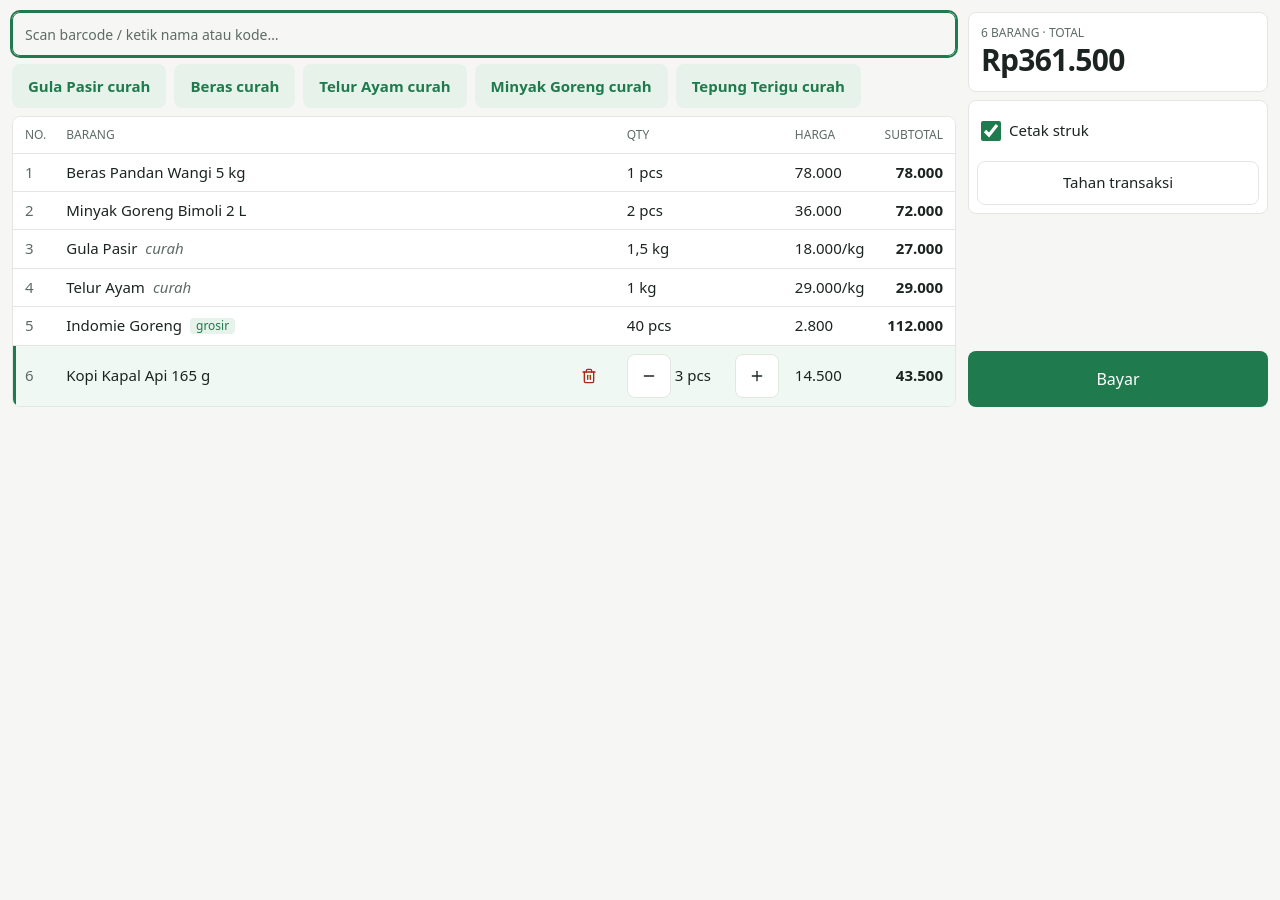
Test case: tunai: ketik 400.000 → KEMBALIAN Rp38.500; Selesai → keranjang kosong, kembalian di panel
Click the button "Bayar" at (1118, 379), box [968,351,1268,407]
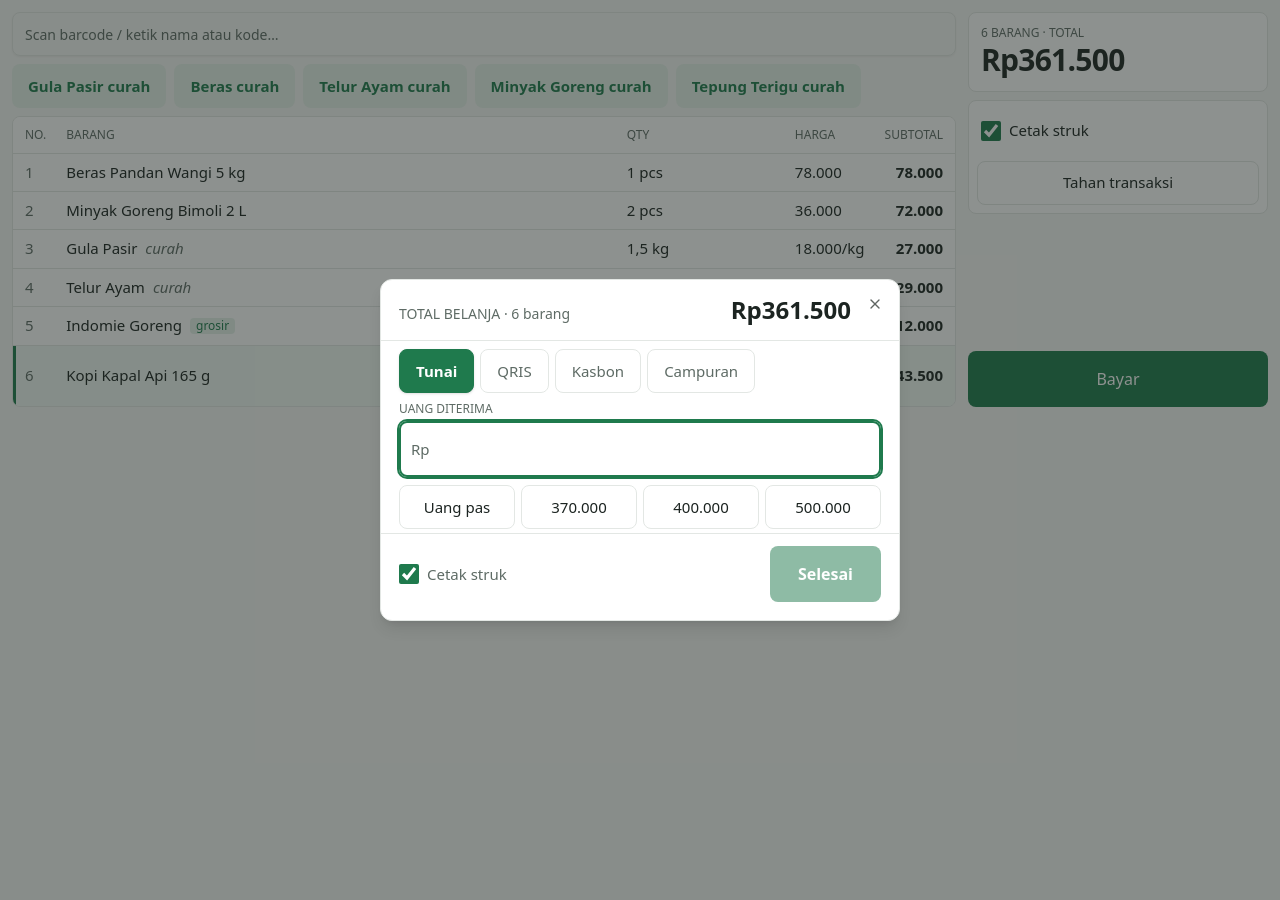
Expected: the text "TOTAL BELANJA · 6 barang" is shown, [399,304,570,324]
Expected: the text "Rp361.500" is shown, [731,294,851,326]
Expected: the button "Selesai" is disabled, [770,546,881,602]
Type "400.000" into the field labelled "UANG DITERIMA" at (640, 449), box [399,421,881,477]
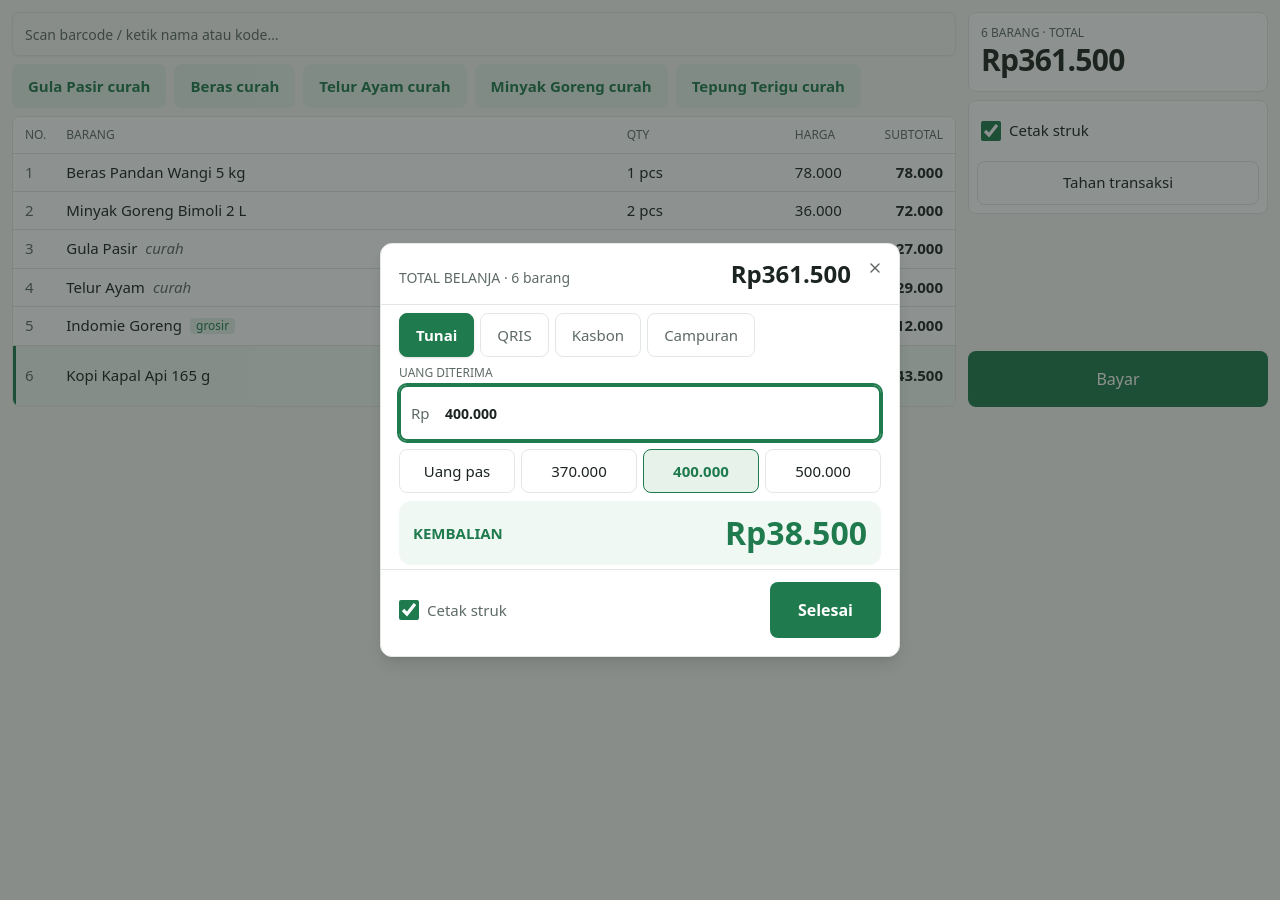
Expected: the text "KEMBALIAN" is shown, [413,522,503,544]
Expected: the text "Rp38.500" is shown, [725,513,867,553]
Click the button "Selesai" at (825, 610), box [770,582,881,638]
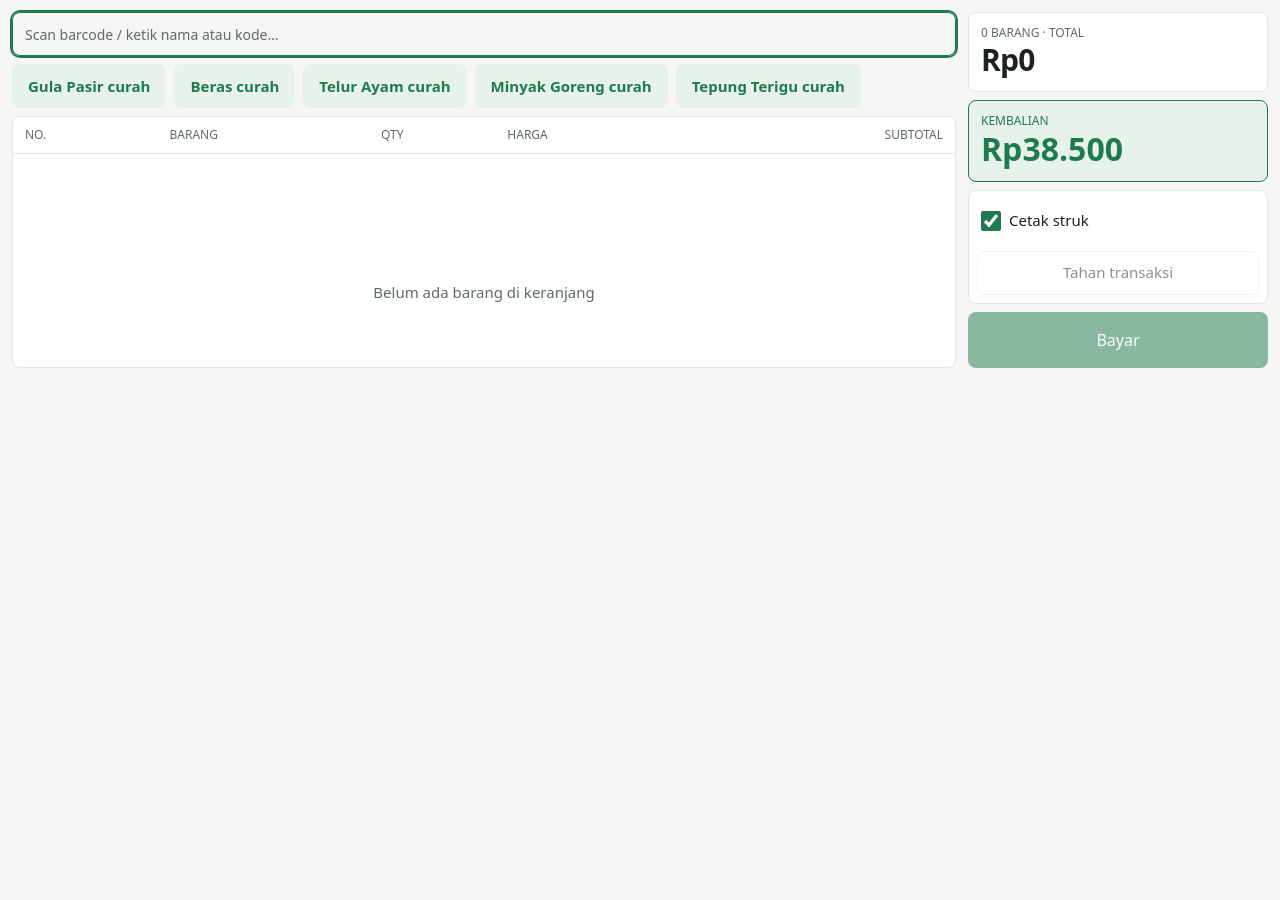
Expected: the dialog "Pembayaran" is not shown
Expected: the element showing "KEMBALIAN Rp38.500" is shown, [968,100,1268,182]
Expected: the text "0 BARANG · TOTAL" is shown, [981,24,1084,41]
